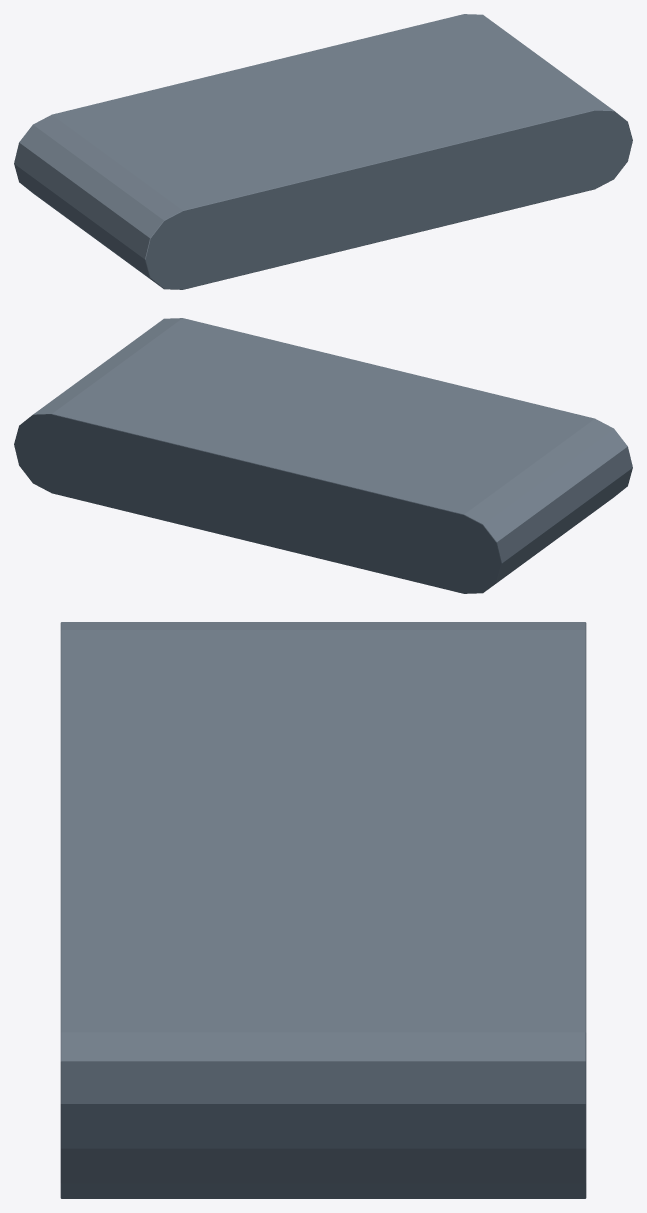
Rendered from OneWay.gltf.
3 renders of one model, top to bottom at view 1: azimuth 30°, elevation 25°; view 2: azimuth 150°, elevation 25°; view 3: azimuth 270°, elevation 25°, orthographic. The views are drawn at different scales.
Visible parts, largest first — view 1: OneWay_baked; view 2: OneWay_baked; view 3: OneWay_baked.
Boxes of the visible parts, x1,y1,x2,y2 form: OneWay_baked: [14, 14, 632, 289]; OneWay_baked: [14, 318, 632, 593]; OneWay_baked: [60, 622, 586, 1198].
Size of the model in its own units: 0.9 by 0.155 by 0.42.
